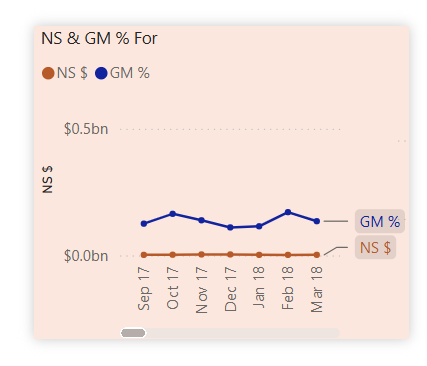

This screenshot's page, from the dashboard's own definition file:
{"tool":"powerbi","page":{"name":"Sales Trend","canvas":[300,250],"ordinal":6},"visuals":[{"type":"lineChart","fields":{"Y":["Key Measures.NS $"],"Y2":["Key Measures.GM %"],"Category":["dim_date.month"]},"box":[0,0,352,254],"z":0}]}

Visuals, with their boxes in screenshot pixels (x1, y1, x2, y2), scaled from the page's 300x250 canvas onto the 427x366 screenshot:
lineChart - Key Measures.NS $ x Key Measures.GM %: BBox(0, 0, 426, 365)
